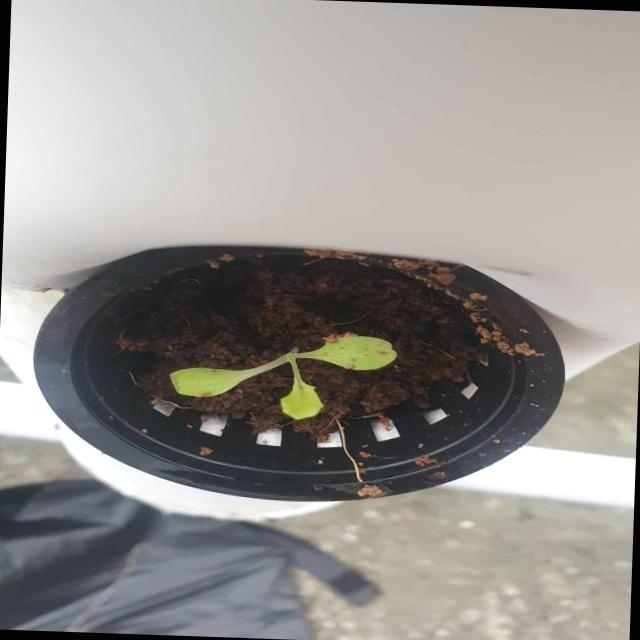Lettuce-Not-Ready-to-Harvest: (168, 336, 397, 421)
